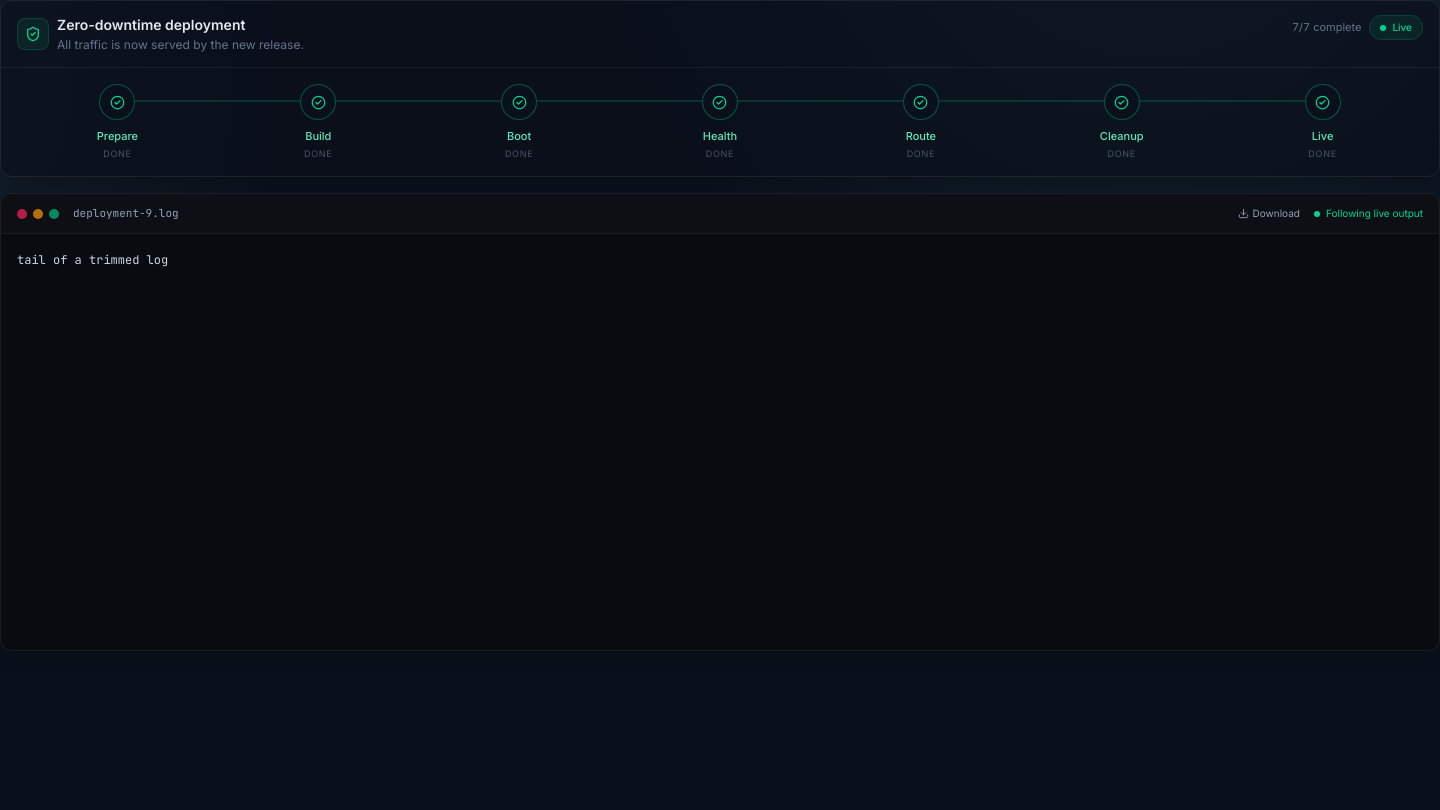
Test: LogPanel download (r561) › downloads the FULL log from the server endpoint, not the trimmed on-screen buffer
Click the button "Download".
click(1269, 214)  # box [1232,204,1306,223]
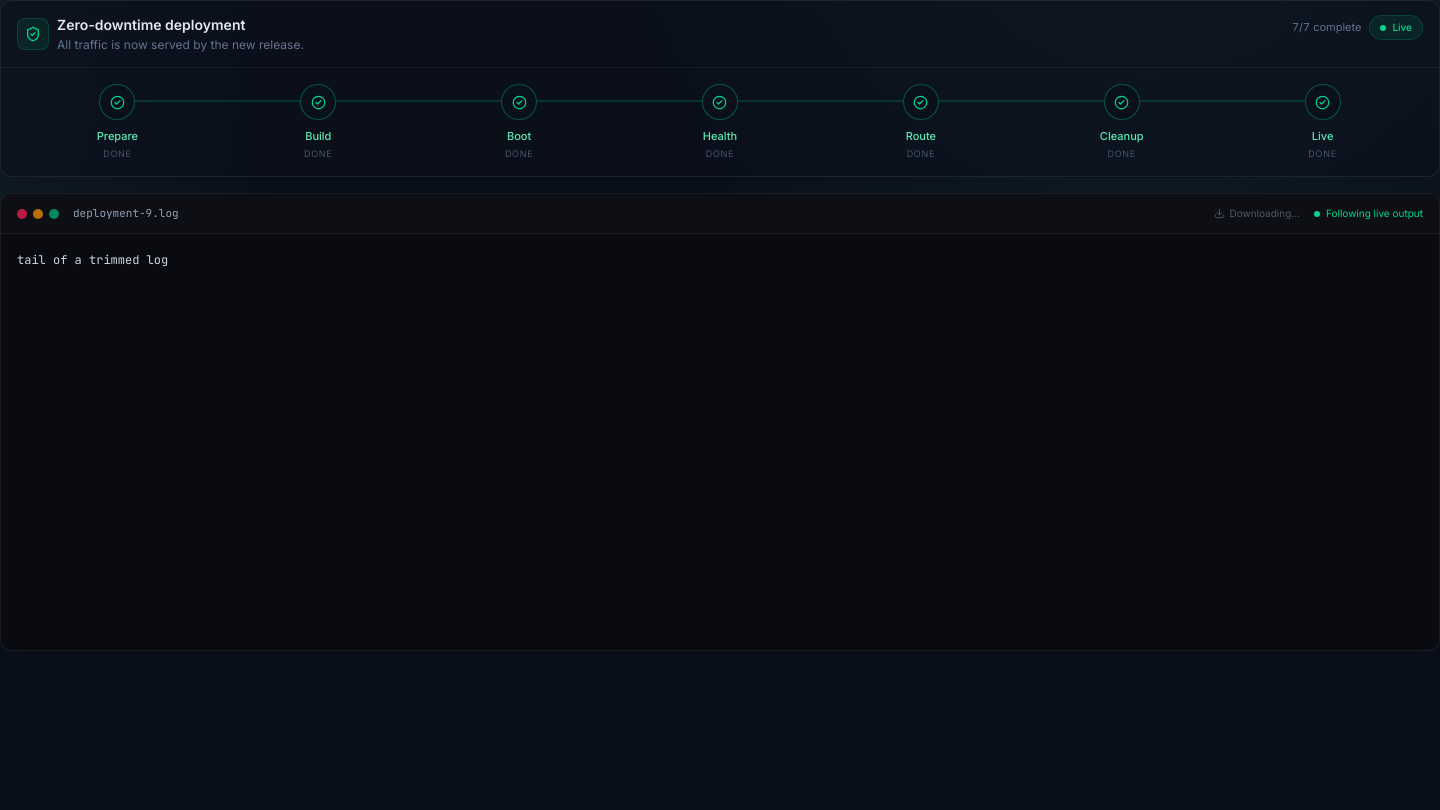
Expected: the button "Downloading…" is disabled
Click the button "Downloading…".
click(1257, 214)  # box [1208,204,1306,223]
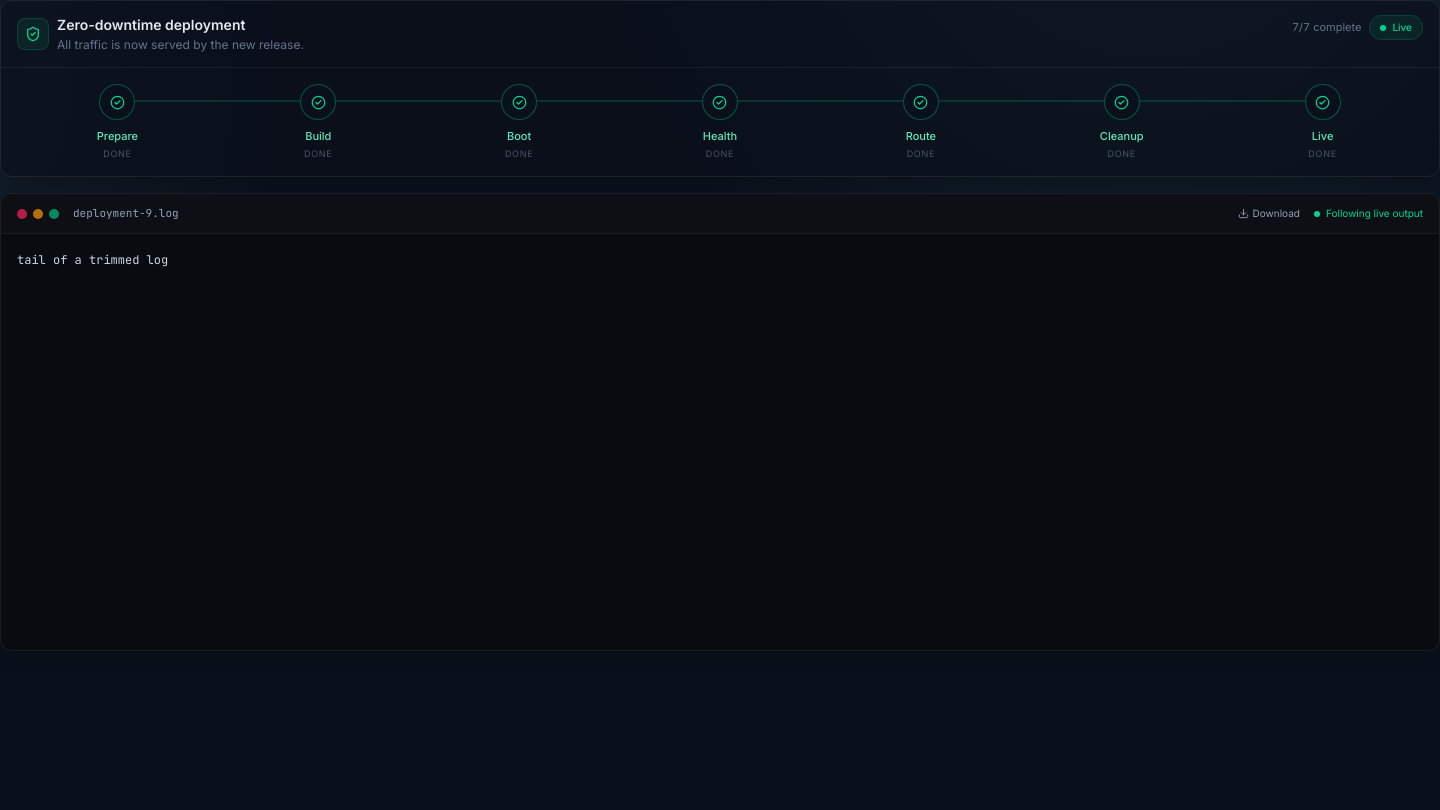
Expected: the button "Download" is enabled, [1232,204,1306,223]
